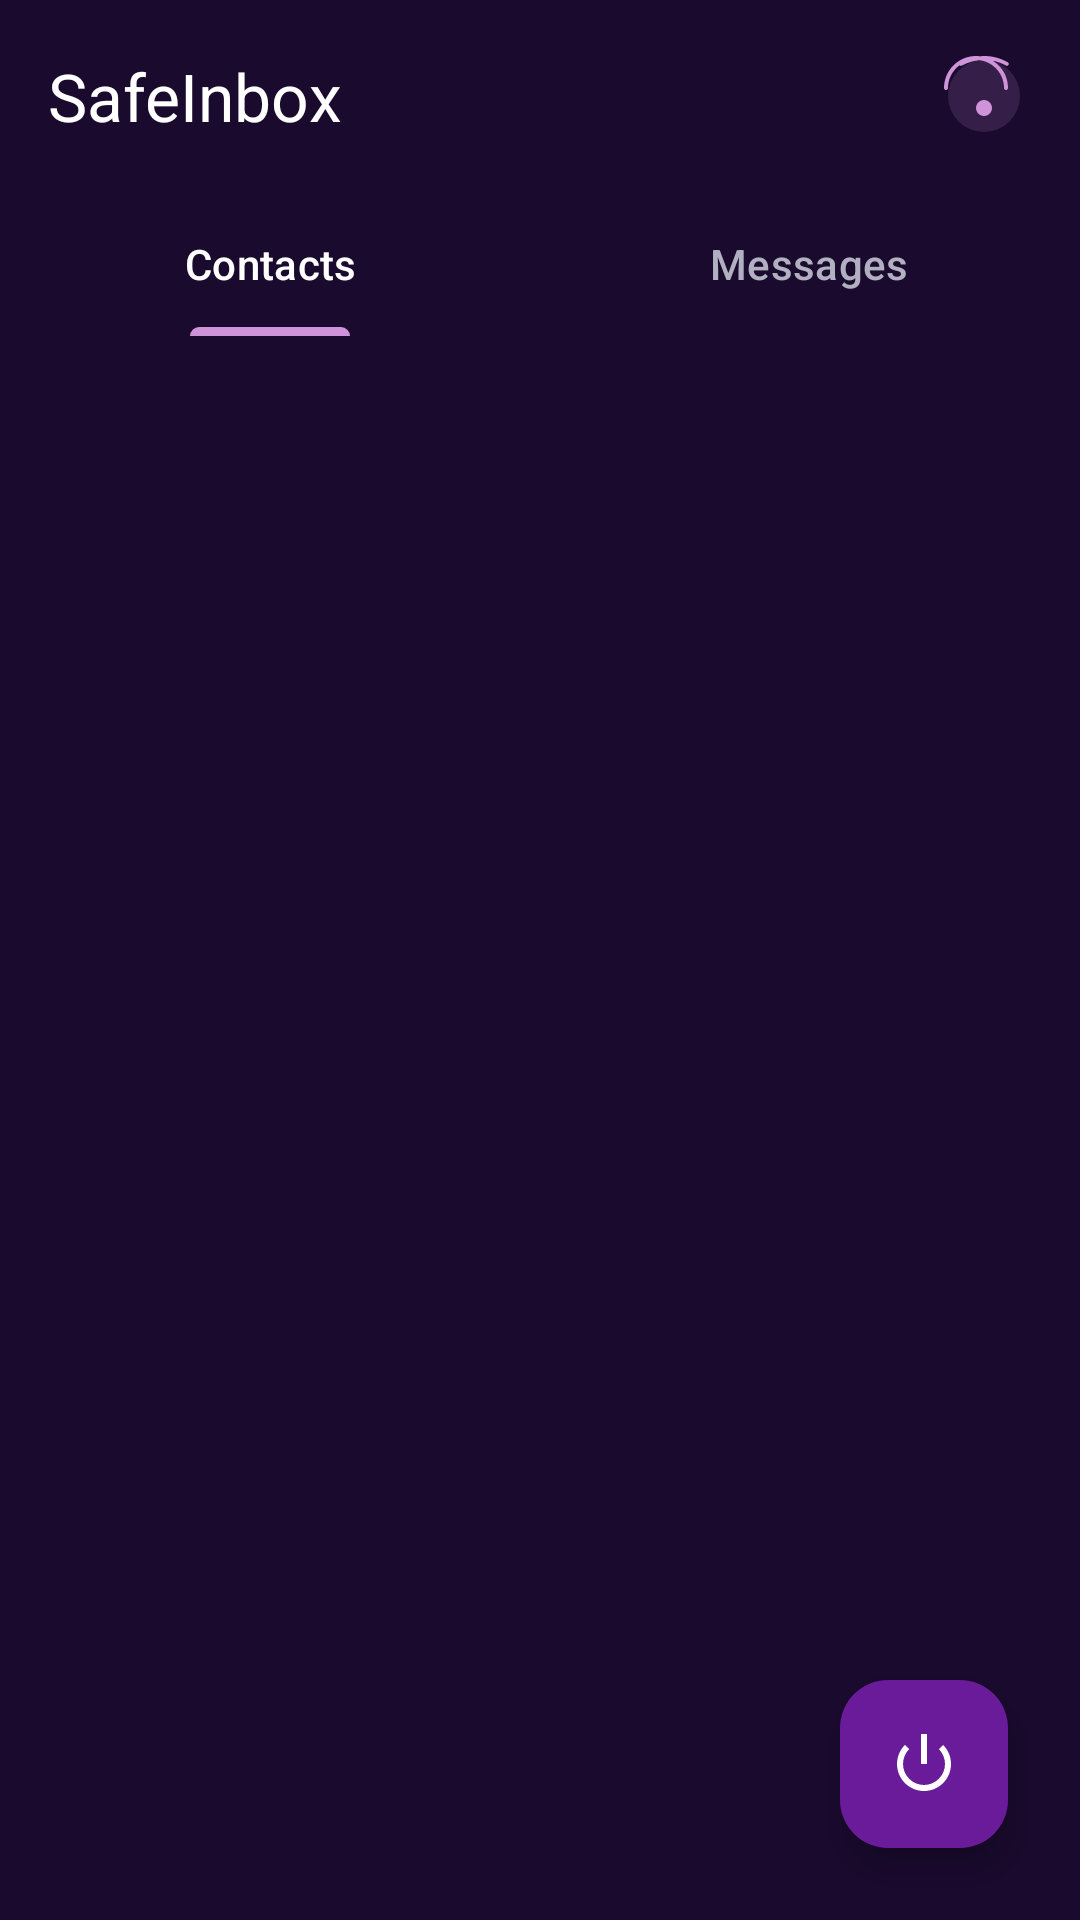

Screen size 1080×1920. Icon name, then its center in pixels as [x,y]:
lock power off: [924,1764]
